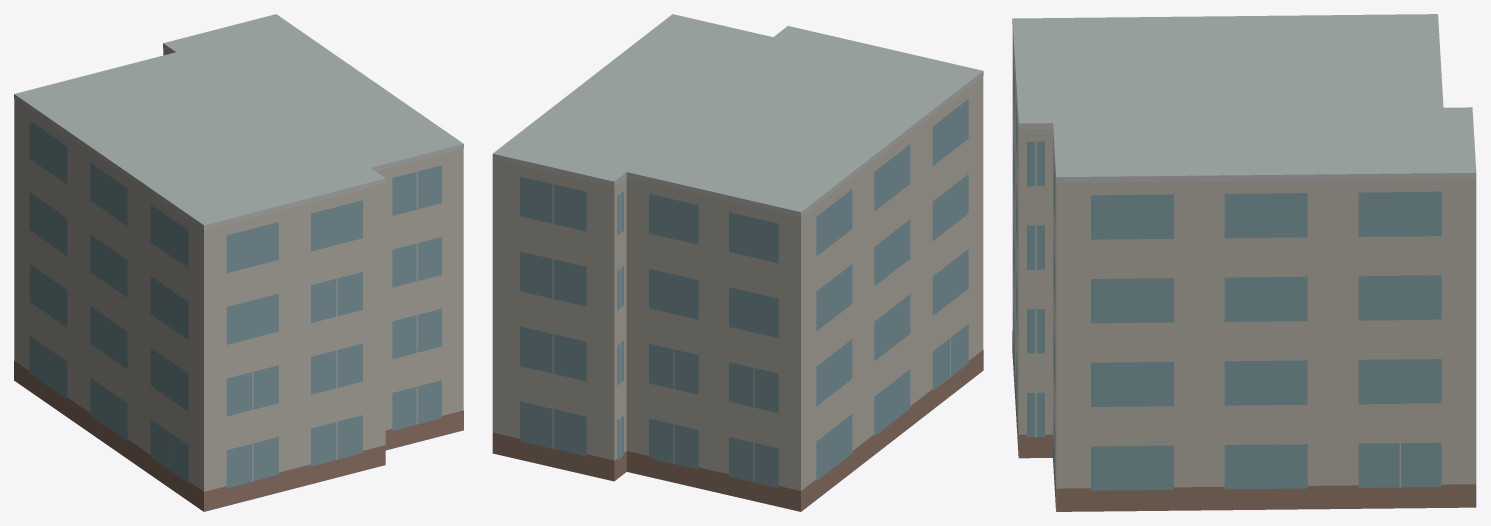
The model's file is survey-upis-32551905.glb.
The picture shows the model from 3 angles, left to right: view 1: azimuth 30°, elevation 25°; view 2: azimuth 150°, elevation 25°; view 3: azimuth 270°, elevation 25°; orthographic projection. The views are drawn at different scales.
Visible parts, largest first — view 1: survey-upis-32551905.tmp; view 2: survey-upis-32551905.tmp; view 3: survey-upis-32551905.tmp.
Part boxes in pixels (bbox=[...]): survey-upis-32551905.tmp: bbox=[14, 14, 463, 511]; survey-upis-32551905.tmp: bbox=[492, 14, 983, 511]; survey-upis-32551905.tmp: bbox=[1012, 14, 1476, 511].
Bounding box in the file's own units: 14.69 × 14.05 × 17.65.
